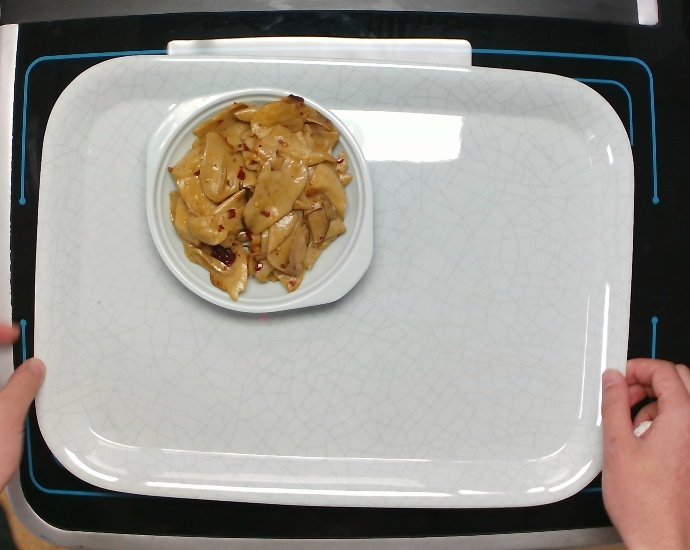JYsf-Shuang_Er_Pan: (135, 81, 382, 318)
